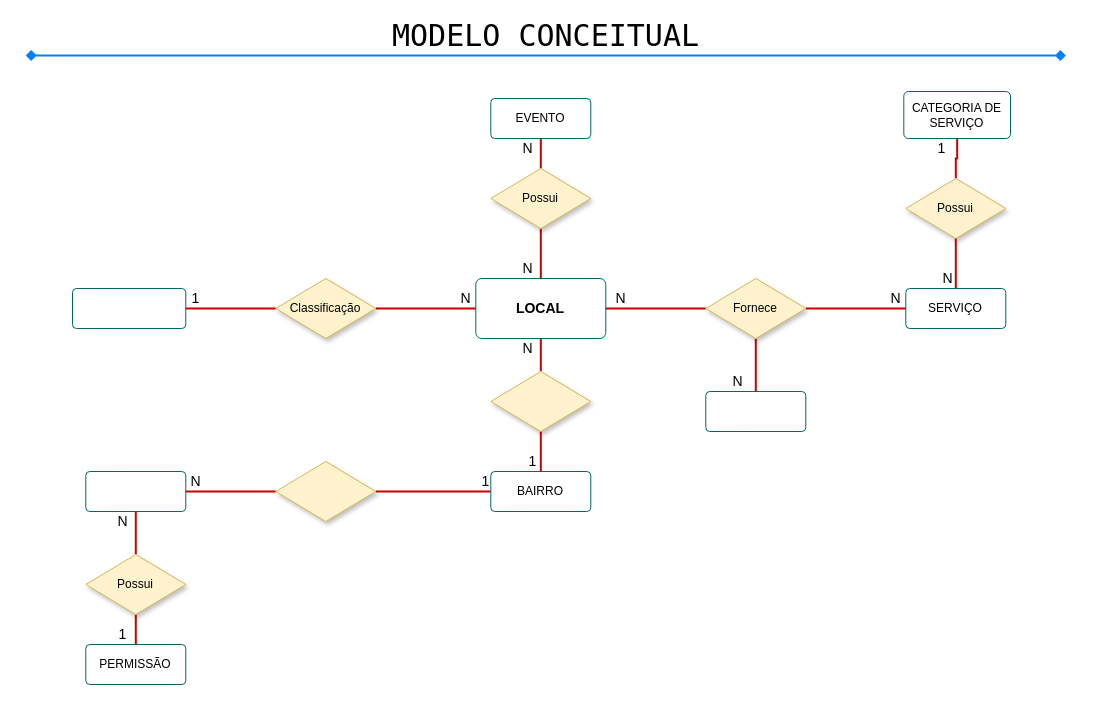
Image size: 1093x702. Some labels were removed from this diagram. Each missing label, with the centre of its shape:
Fica: (541,402)
Mora: (326,492)
SITUAÇÂO: (755,411)
TIPO DE LOCAL: (129,308)
USUARIO: (135,491)
